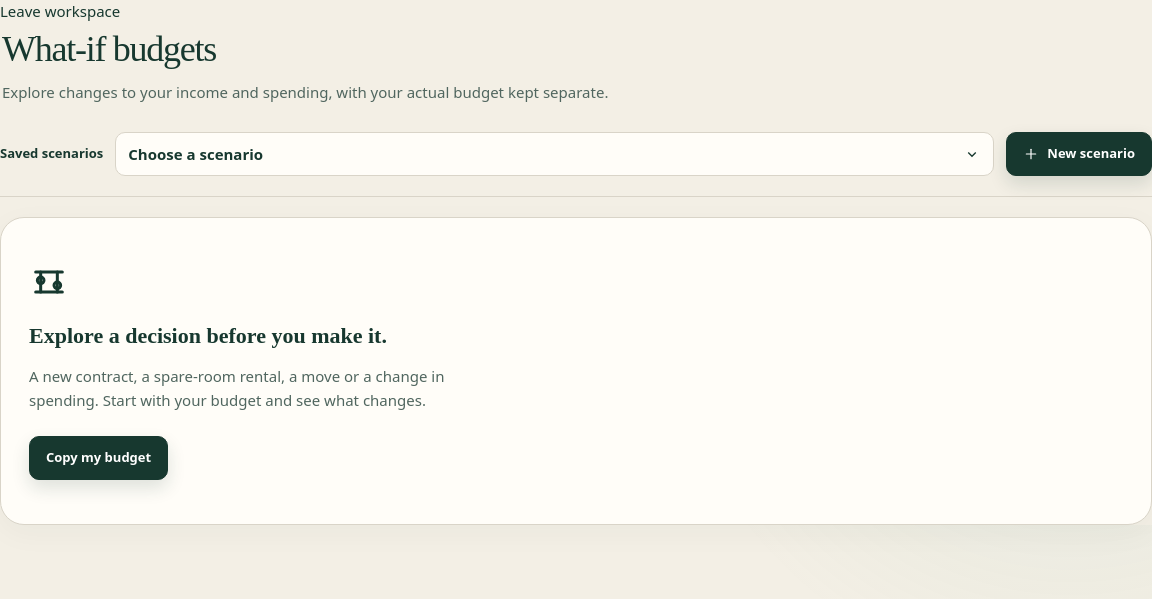
Test: workspace integration › manually saves immediately and cancels the delayed write
Press ArrowDown in the dropdown named "Saved scenarios", box [115,132,994,176]
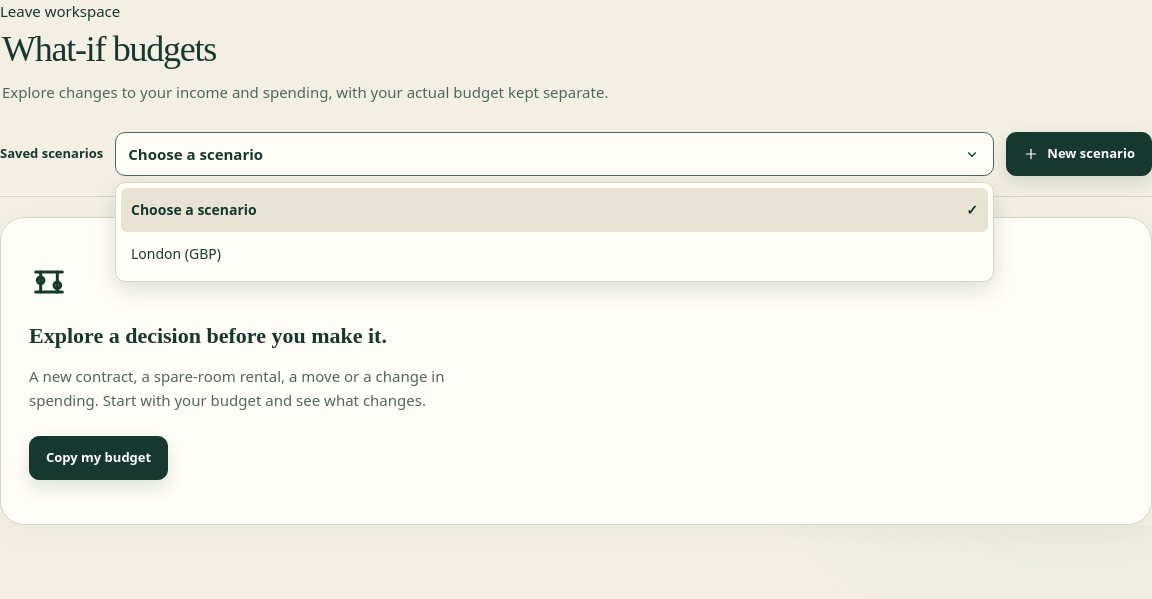
Press Enter in the option "London (GBP)", box [131,244,221,263]
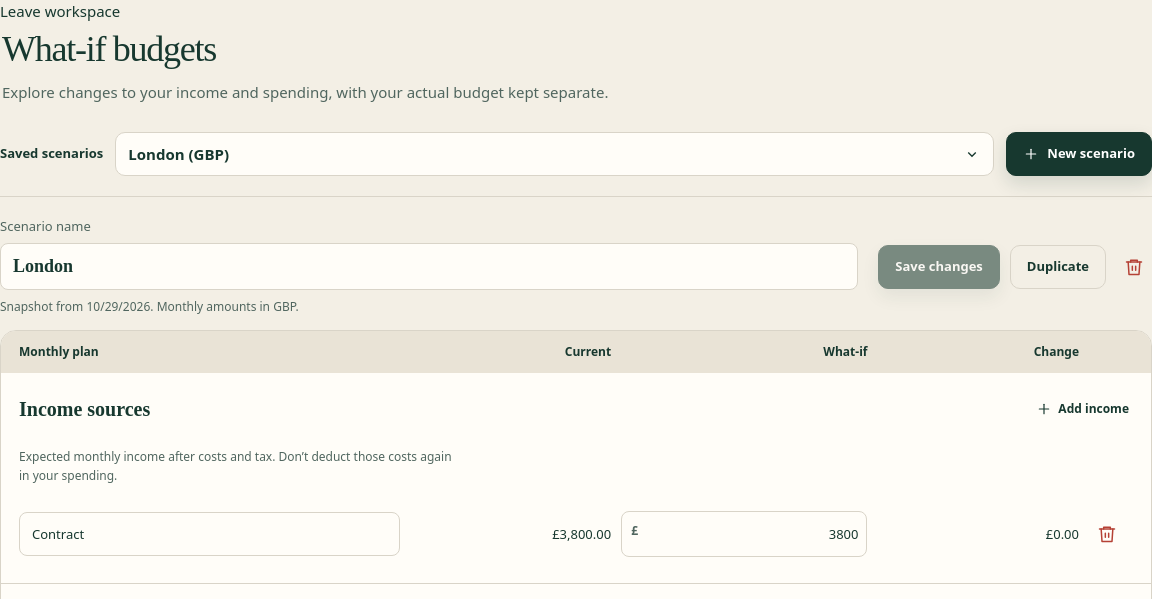
Now the button "Save changes" is disabled, box [878,245,1000,289]
Replace the text in the field named "Contract monthly amount" with "5100" at (752, 534), box [638,512,866,556]
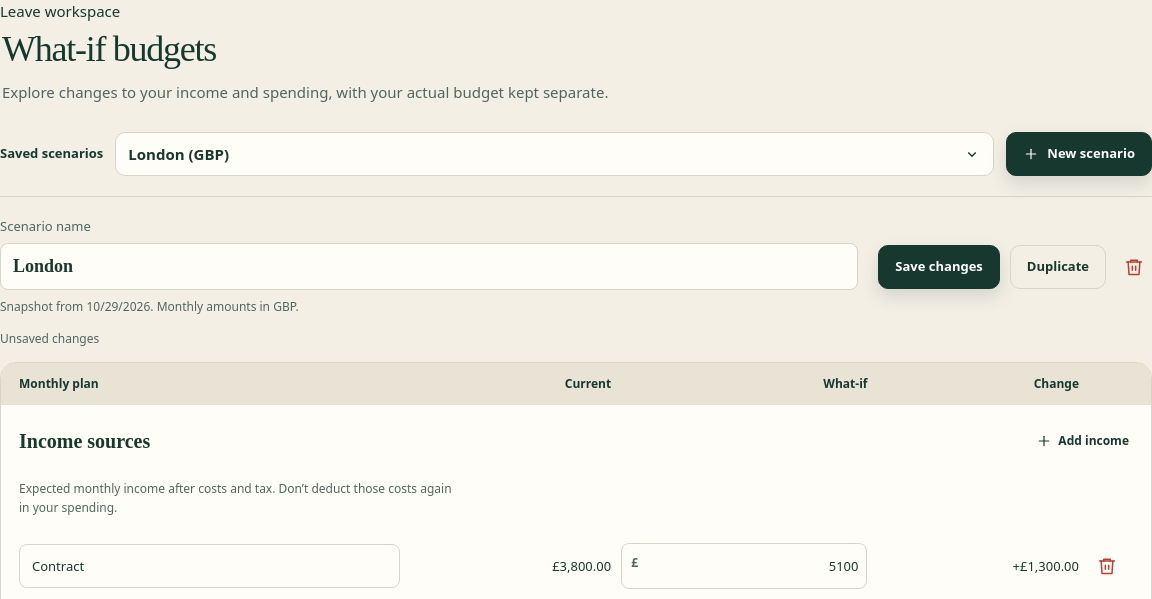
Now the button "Save changes" is enabled
Click the button "Save changes" at (939, 267), box [878,245,1000,289]
Wait 6000 ms
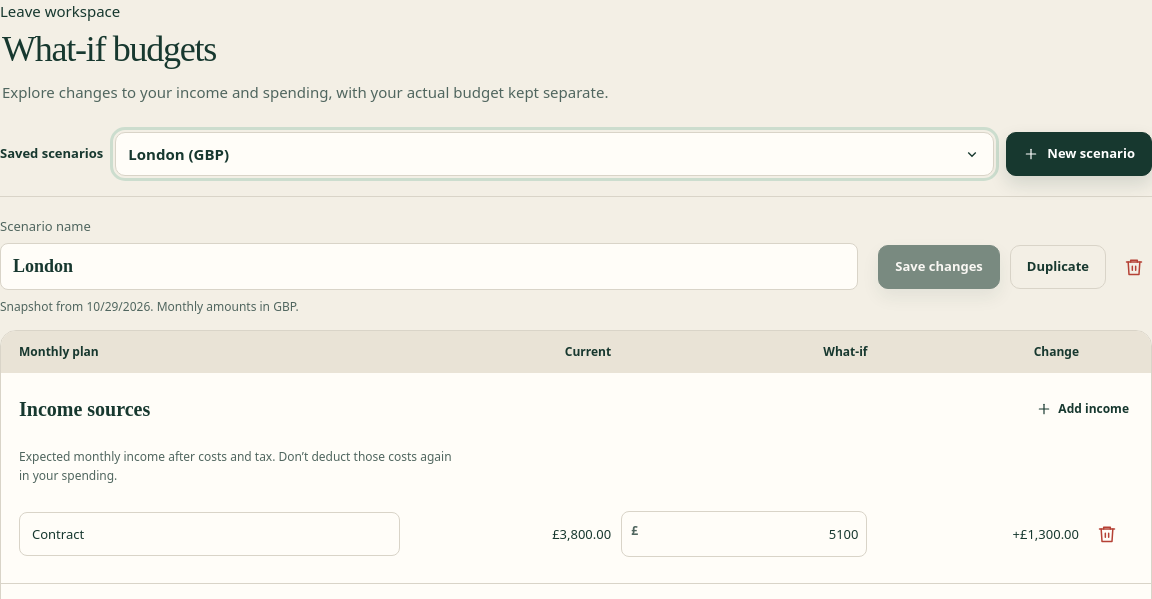
Now the button "Save changes" is disabled, box [878,245,1000,289]
